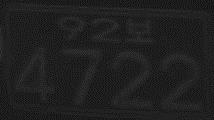2: (107, 49, 153, 110), (158, 51, 204, 112), (91, 16, 122, 42)
4: (16, 46, 56, 101)
7: (60, 47, 103, 105)
9: (58, 15, 85, 41)
보: (124, 17, 152, 44)
